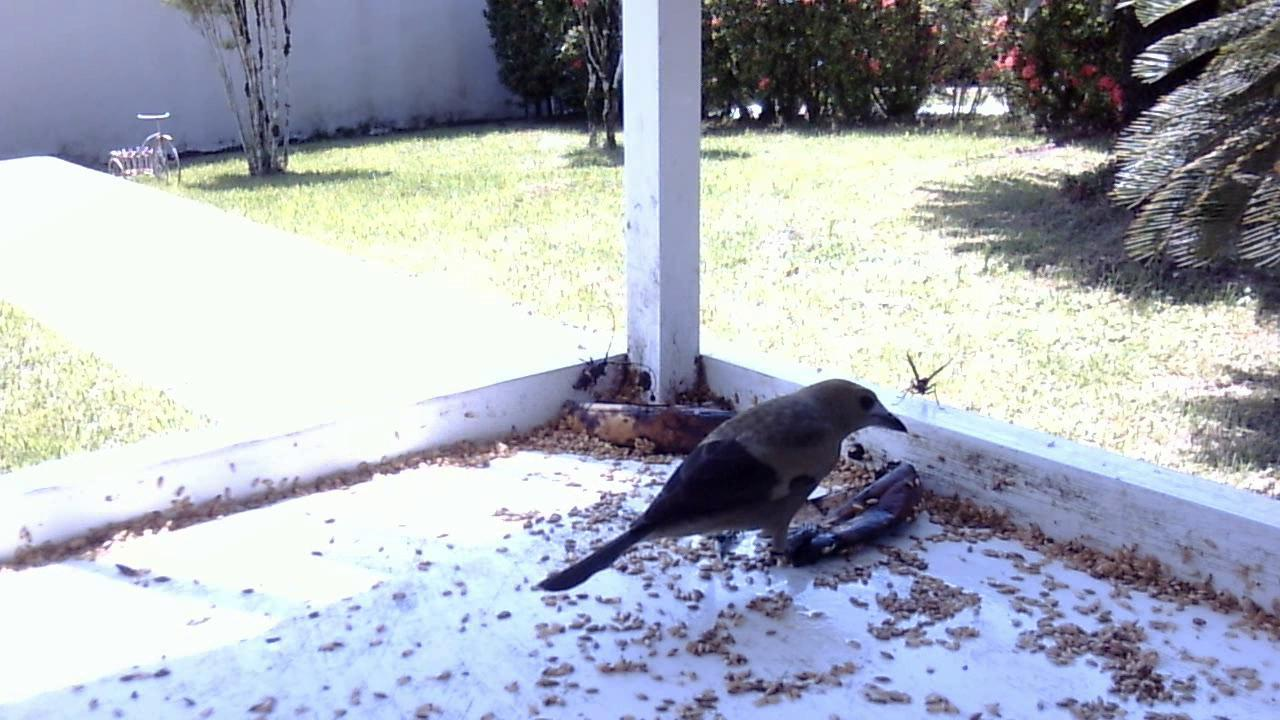sanhaco_do_coqueiro: (523, 376, 909, 597)
